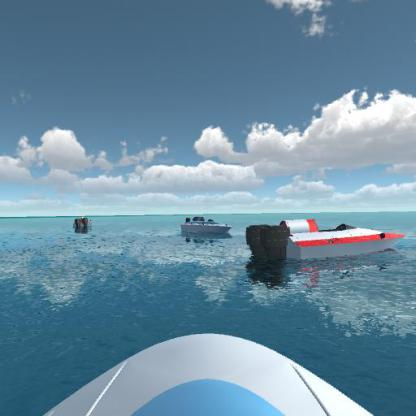usv1: (178, 212, 236, 241)
usv3: (242, 214, 412, 269), (70, 213, 98, 231)
